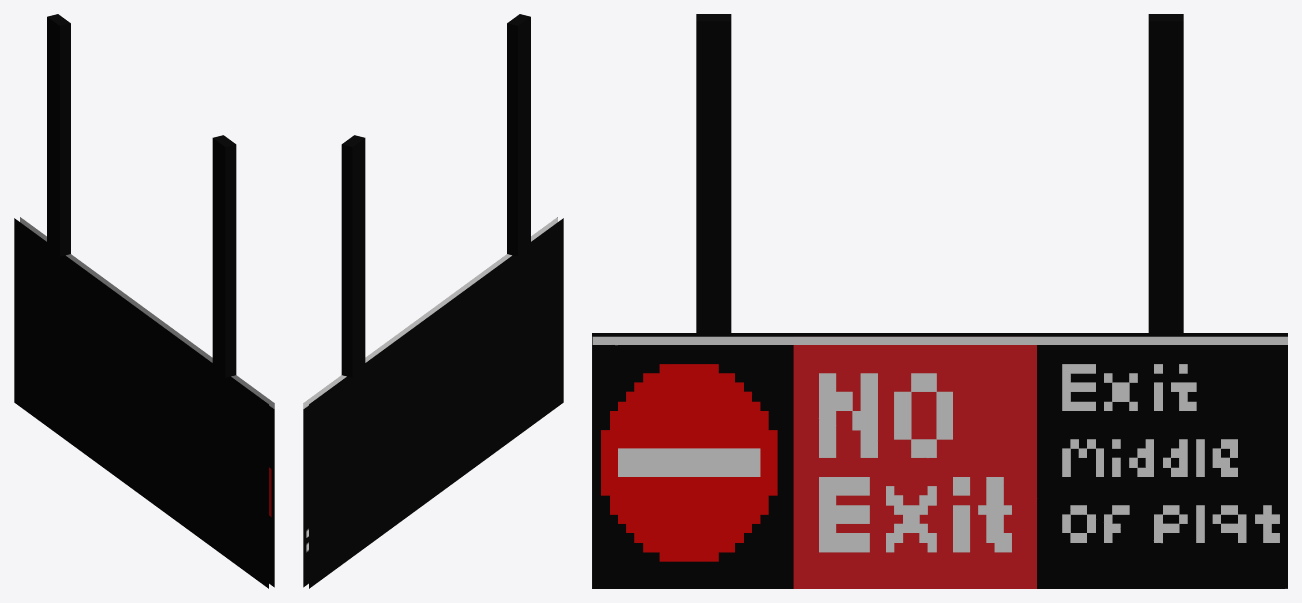
Rendered from no_exit_sign.glb.
3 views of the same model, side by side, from view 1: azimuth 30°, elevation 25°; view 2: azimuth 150°, elevation 25°; view 3: azimuth 270°, elevation 25° (orthographic). The views are drawn at different scales.
Visible parts, largest first — view 1: Sign.001, Top Rail Left, Top Rail Right, Sign; view 2: Sign.001, Top Rail Right, Top Rail Left, Sign; view 3: Sign, Top Rail Right, Top Rail Left, Sign.001.
Part boxes in pixels (x1=…): Sign.001: x1=14, y1=218, x2=268, y2=588; Top Rail Left: x1=212, y1=135, x2=236, y2=377; Top Rail Right: x1=47, y1=14, x2=70, y2=256; Sign: x1=20, y1=217, x2=274, y2=587; Sign.001: x1=309, y1=218, x2=563, y2=588; Top Rail Right: x1=341, y1=135, x2=365, y2=377; Top Rail Left: x1=507, y1=14, x2=530, y2=256; Sign: x1=303, y1=217, x2=557, y2=587; Sign: x1=592, y1=336, x2=1287, y2=588; Top Rail Right: x1=1148, y1=14, x2=1183, y2=336; Top Rail Left: x1=696, y1=14, x2=731, y2=336; Sign.001: x1=592, y1=333, x2=1287, y2=336.
Size of the model in its own units: 0.05 by 1.8 by 2.
Materials: 4 (1 with a texture image).
